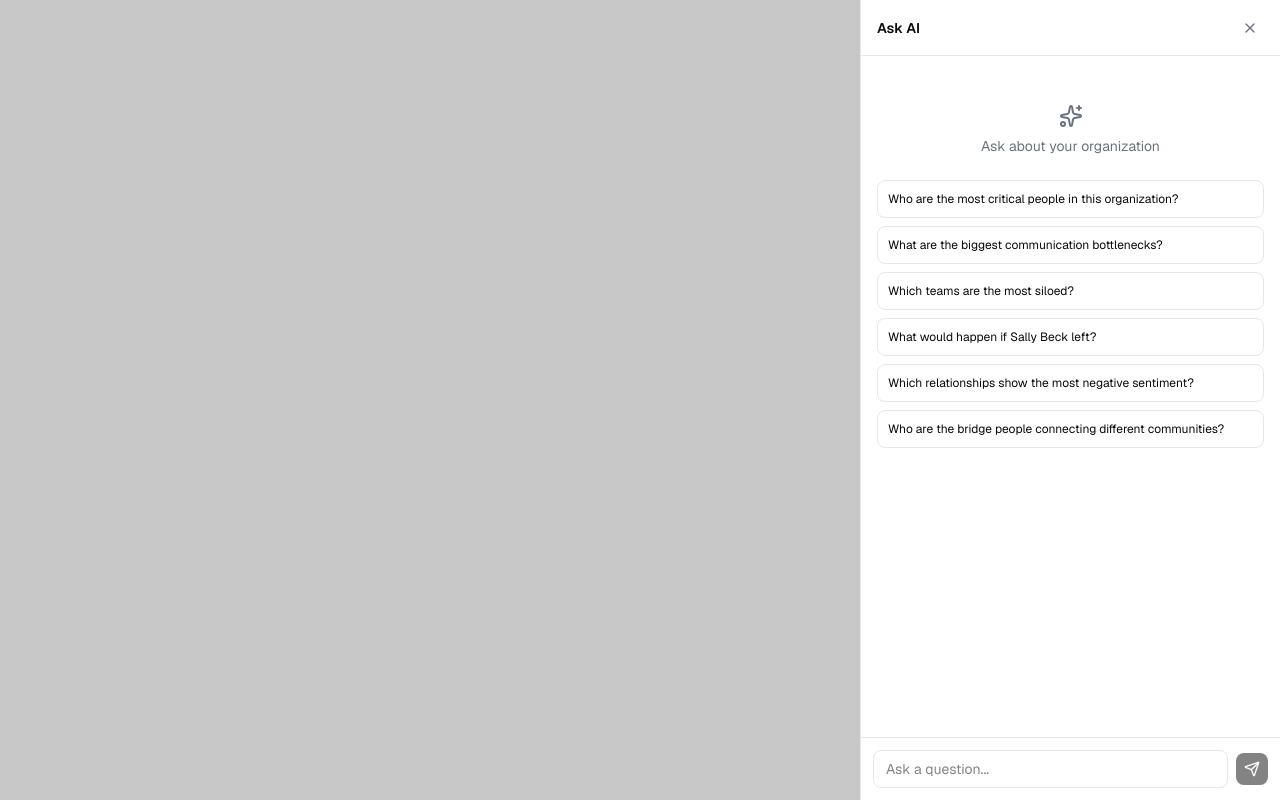
Test: ChatDrawer › enables send button when input has text
Type "Who is Sally Beck?" into the field with placeholder "Ask a question..." at (1050, 769), box [873,750,1228,788]
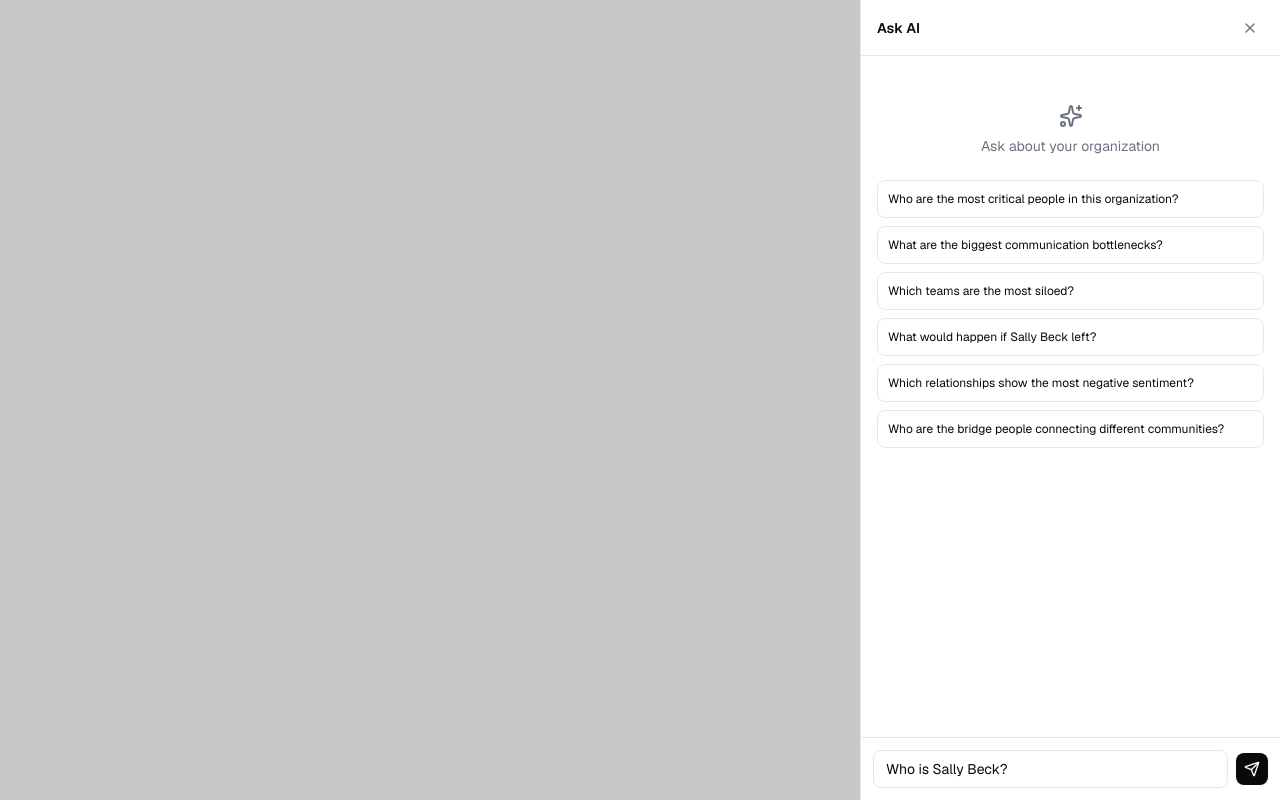
expect the 8th button is enabled: met, box [1236,753,1268,785]
